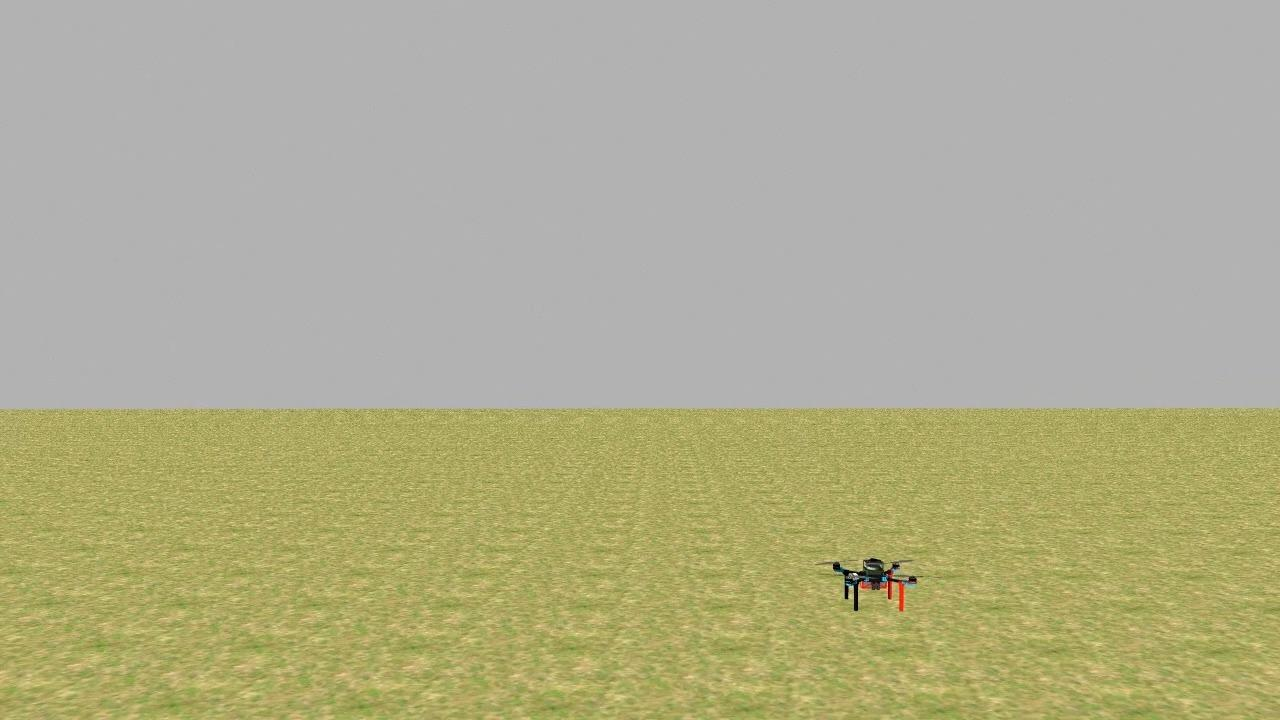UAV: (821, 554, 928, 622)
